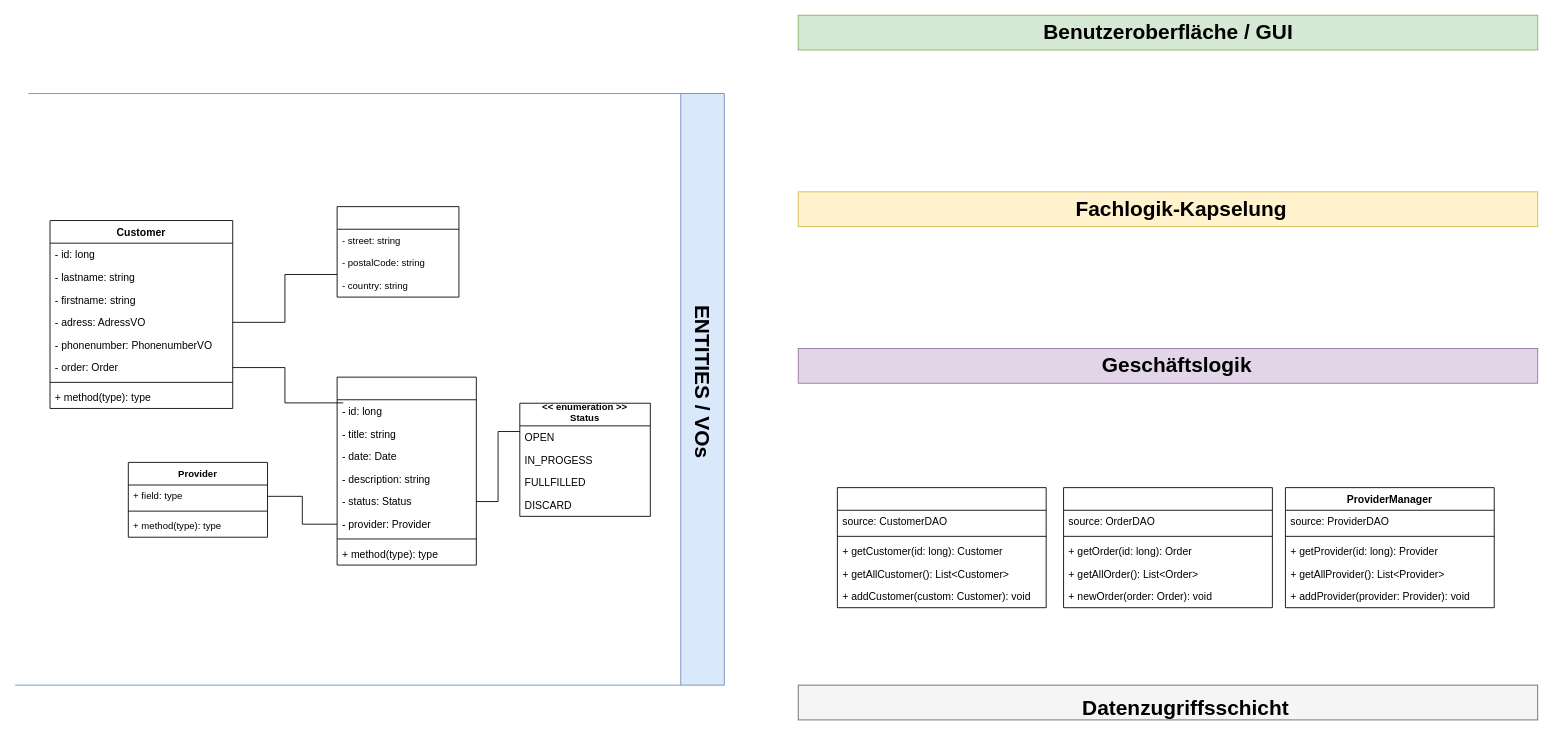
Some shapes in this 1553 by 741 pixel diagram are drawn without their labels. Here are the shapes that lost their labels. From the top down, the box of each, then its label:
(336, 206, 459, 297): AdressVO
(336, 376, 476, 565): Order
(837, 487, 1046, 608): CustomerManager
(1063, 487, 1272, 608): OrderManager
